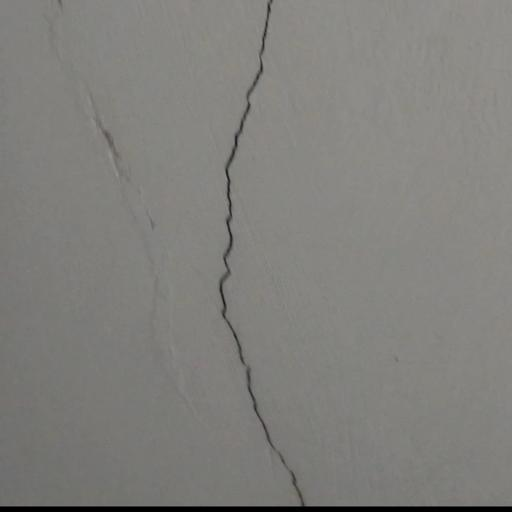major_crack: (212, 0, 317, 507)
